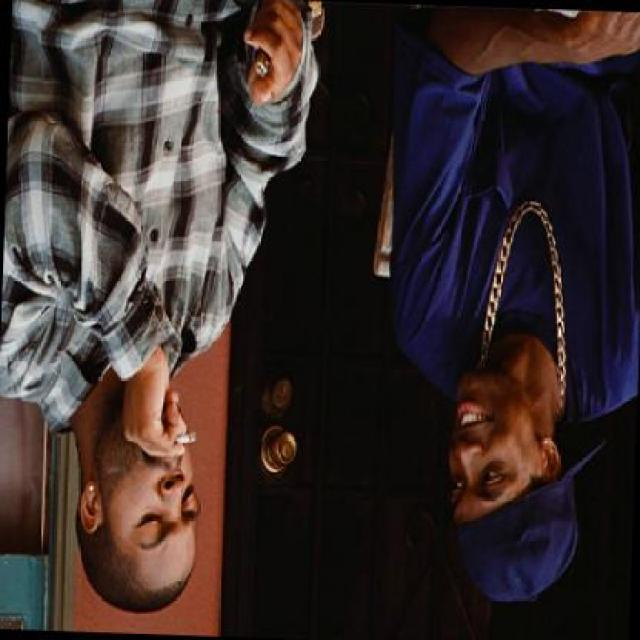cigarette: (170, 428, 196, 446)
